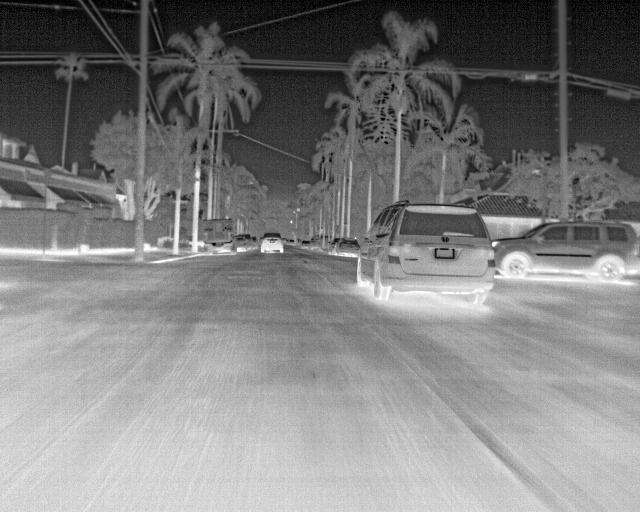bicycle: (355, 202, 494, 305), (490, 219, 639, 282), (332, 236, 359, 257), (260, 232, 283, 255), (325, 238, 342, 255), (233, 234, 247, 253), (240, 233, 253, 250), (299, 238, 313, 250)
